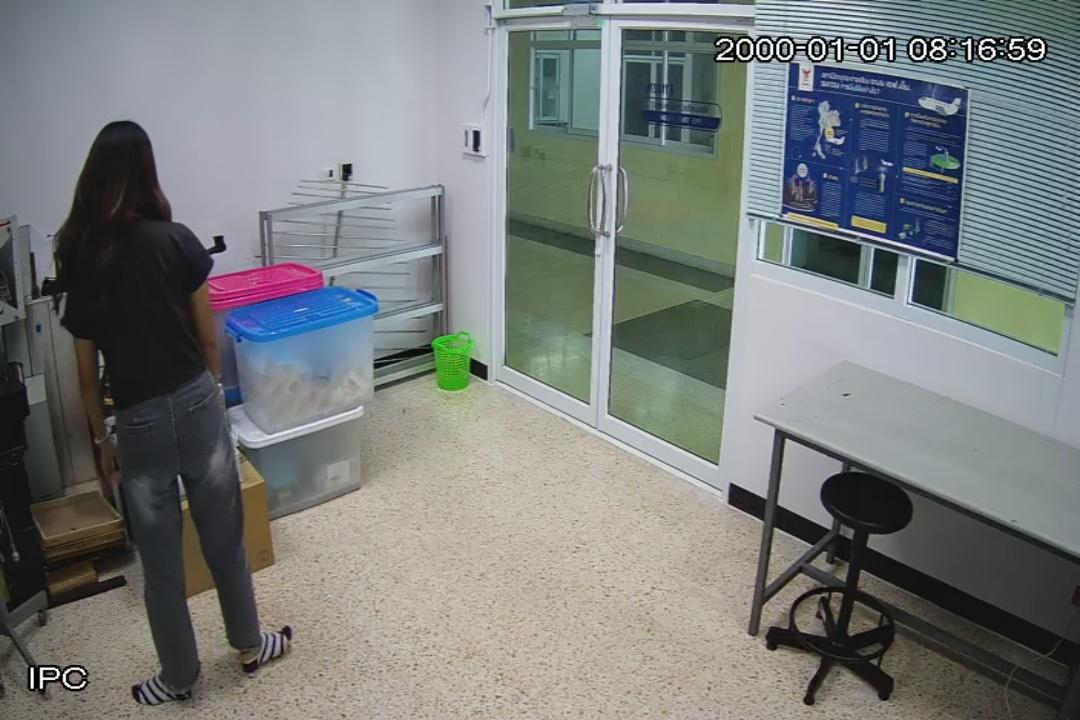normal: (58, 116, 298, 709)
